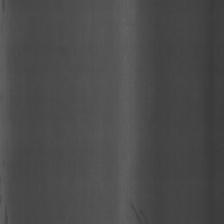water_spot: (128, 187, 149, 224)
